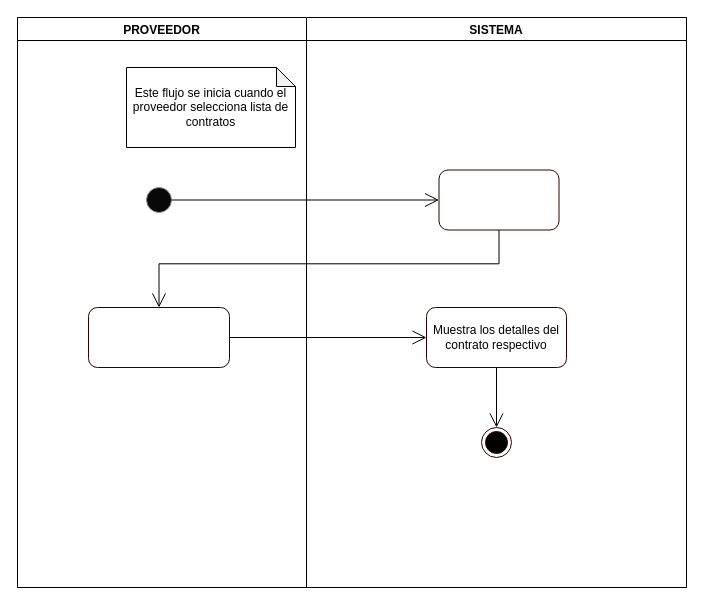
Image size: 704x605. Some labels were removed from this diagram. The shapes that lost their labels are listed below. From the top down, each one's centre as x and y in pixels, then its label:
point 498,199: Muestra interfaz "lista de contratos"
point 159,337: Selecciona ver detalles de un contrato
